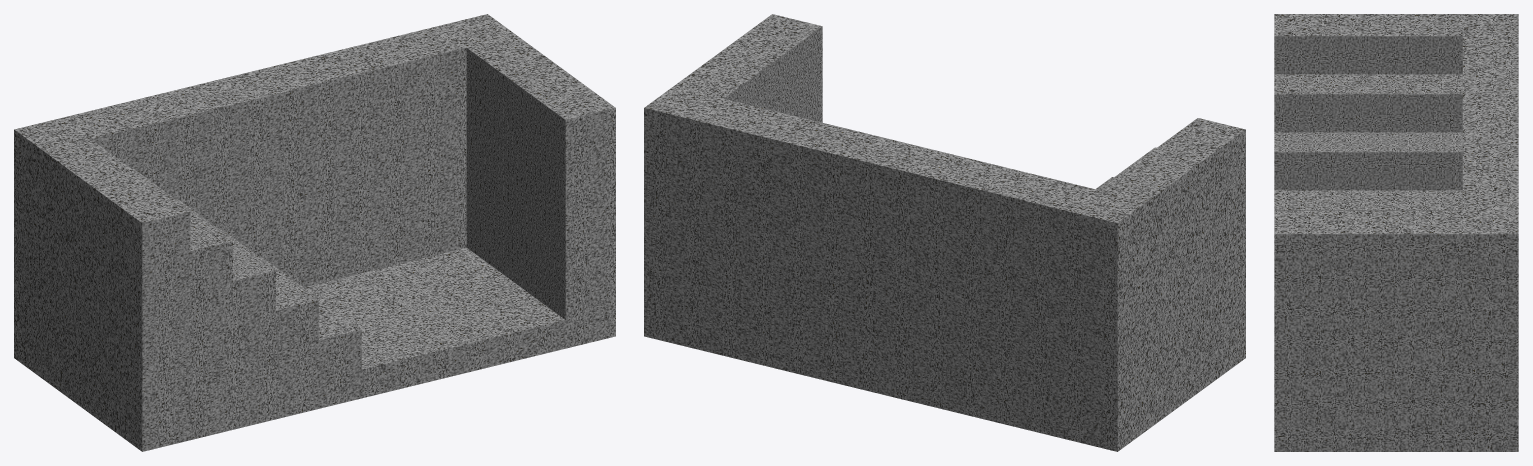
The model's file is Basement_Down_Stairs_2.fbx.
The picture shows the model from 3 angles, left to right: view 1: azimuth 30°, elevation 25°; view 2: azimuth 150°, elevation 25°; view 3: azimuth 270°, elevation 25°; orthographic projection. The views are drawn at different scales.
Parts seen in each view (by area): view 1: Cube.062; view 2: Cube.062; view 3: Cube.062.
Part boxes in pixels (bbox=[...]): Cube.062: bbox=[14, 14, 615, 451]; Cube.062: bbox=[644, 14, 1245, 451]; Cube.062: bbox=[1274, 14, 1518, 451].
Size of the model in its own units: 332 by 153 by 156.
Materials: 1 (1 with a texture image).
